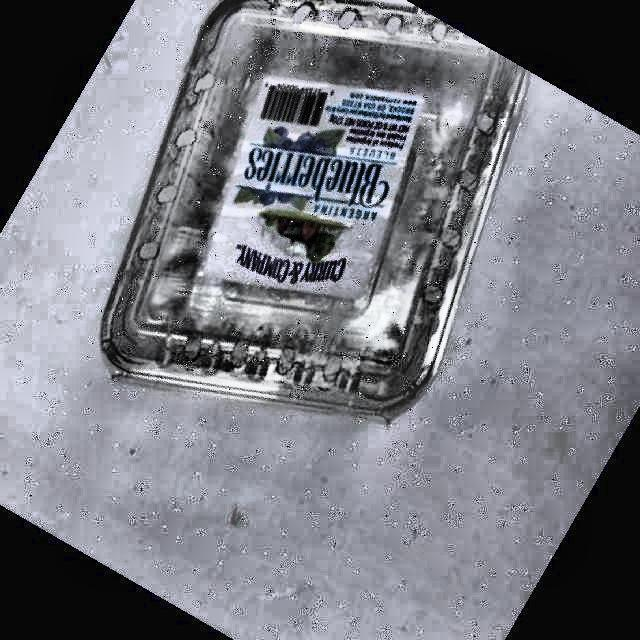plastic: (102, 0, 528, 417)
